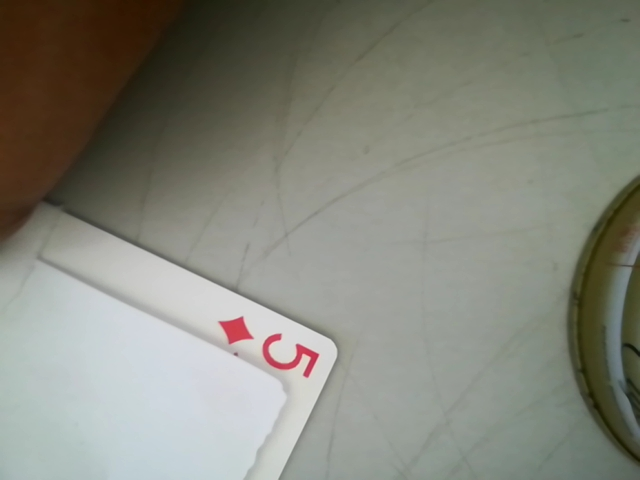fk 5: (218, 311, 330, 384)
